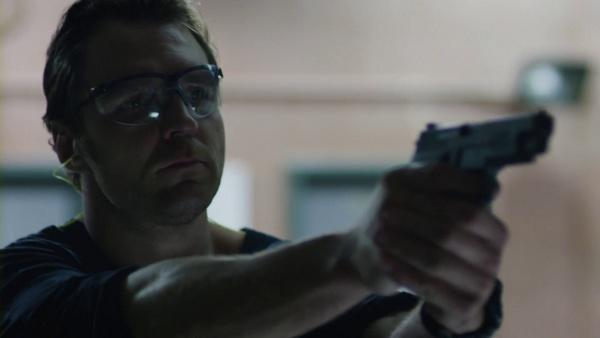Gun: (418, 108, 557, 180)
